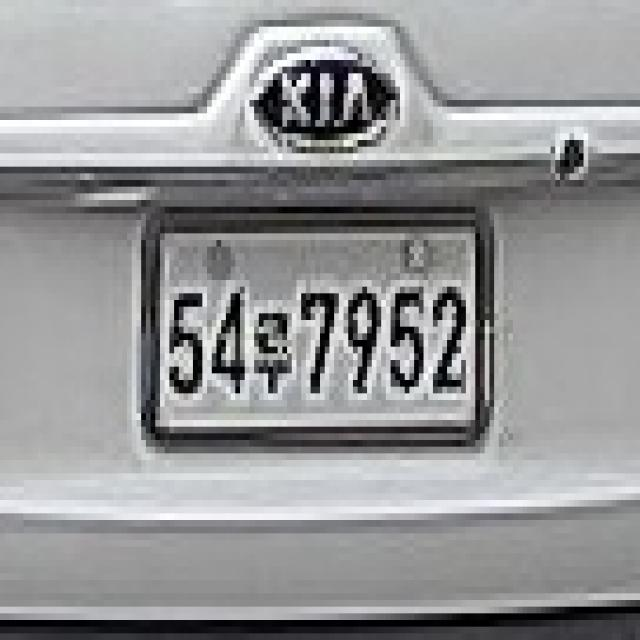2: (424, 273, 476, 407)
4: (207, 267, 249, 400)
5: (381, 280, 433, 407), (160, 280, 202, 400)
7: (296, 273, 344, 407)
9: (344, 274, 391, 414)
license_plate: (127, 200, 508, 453)
lu: (254, 300, 292, 400)
